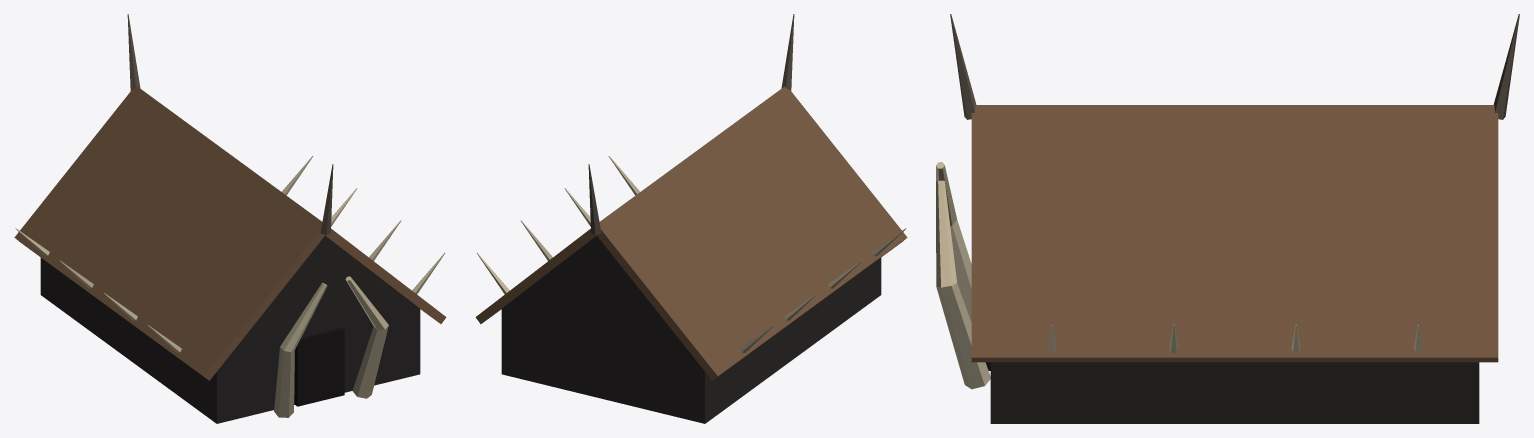
Rendered from orc_hall.glb.
The picture shows the model from 3 angles, left to right: view 1: azimuth 30°, elevation 25°; view 2: azimuth 150°, elevation 25°; view 3: azimuth 270°, elevation 25°; orthographic projection. The views are drawn at different scales.
Visible parts, largest first — view 1: orc_hall; view 2: orc_hall; view 3: orc_hall.
Boxes of the visible parts, x1,y1,x2,y2 form: orc_hall: (14, 14, 446, 423); orc_hall: (475, 14, 907, 423); orc_hall: (936, 14, 1519, 423).
Bounding box in the file's own units: 7.61 × 6.06 × 9.32.
1 material, 1 textured.
